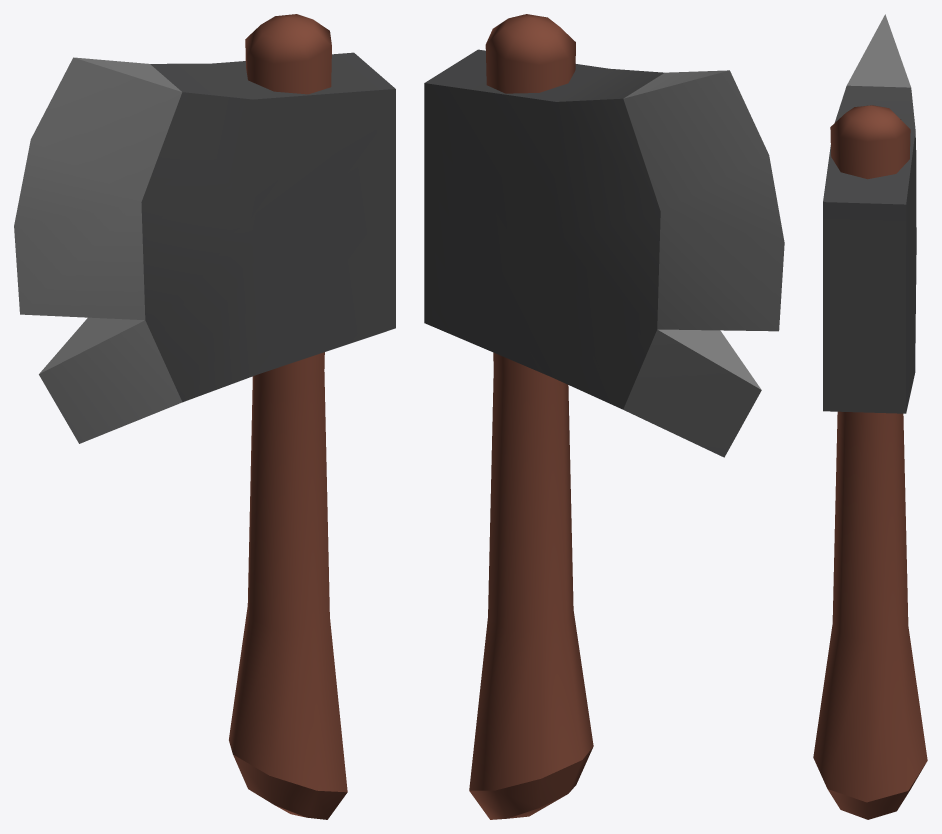
The picture shows the model from 3 angles, left to right: view 1: azimuth 30°, elevation 25°; view 2: azimuth 150°, elevation 25°; view 3: azimuth 270°, elevation 25°; orthographic projection. The views are drawn at different scales.
Parts seen in each view (by area): view 1: Ax_A; view 2: Ax_A; view 3: Ax_A.
Part boxes in pixels (x1=…): Ax_A: x1=14, y1=14, x2=395, y2=819; Ax_A: x1=424, y1=14, x2=784, y2=819; Ax_A: x1=813, y1=14, x2=927, y2=819.
Size of the model in its own units: 26.77 by 58.87 by 8.68.
